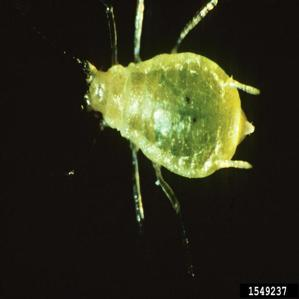Green peach aphid: (31, 1, 271, 243)
